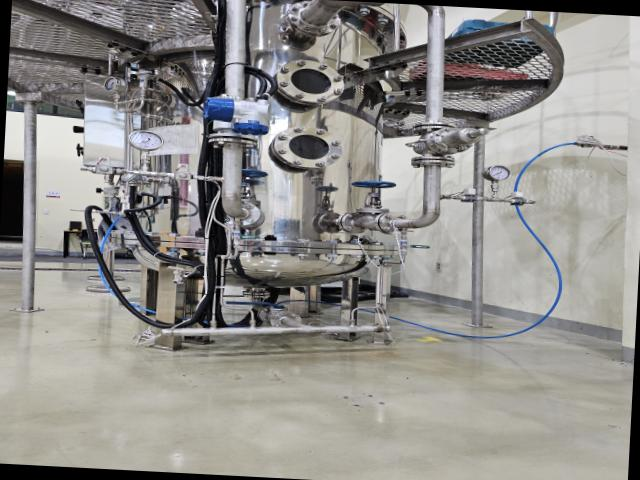Flange: (268, 57, 349, 109), (268, 123, 346, 174)
Flush Ring: (285, 0, 345, 38), (215, 201, 268, 230), (202, 132, 264, 151), (372, 211, 410, 236), (408, 121, 464, 136), (406, 154, 458, 170), (266, 310, 306, 330), (336, 210, 364, 235)
GasRegulator: (97, 61, 188, 125)
Nuts: (90, 164, 130, 177), (504, 194, 536, 210), (168, 170, 200, 185), (456, 192, 485, 204)
Piston Valve: (347, 170, 401, 214), (240, 168, 272, 202)
Pressure Gage: (125, 128, 166, 174), (481, 163, 514, 201)
